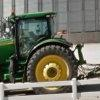Tractor: (4, 9, 81, 93)
